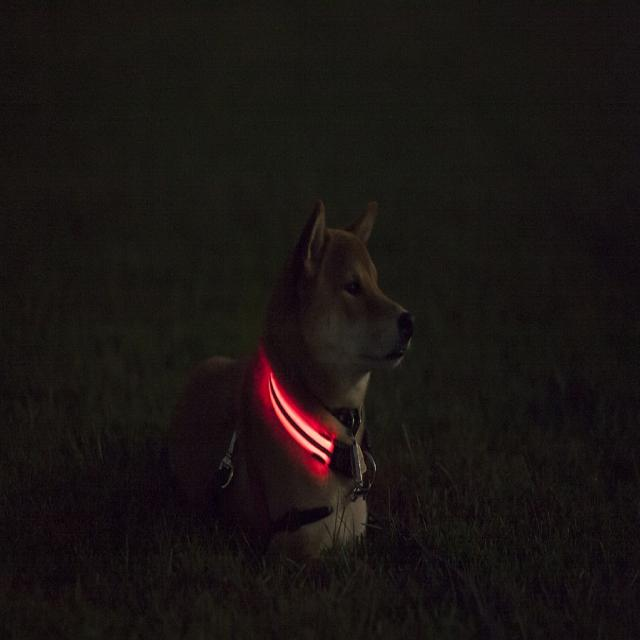Dog: (183, 158, 446, 620)
